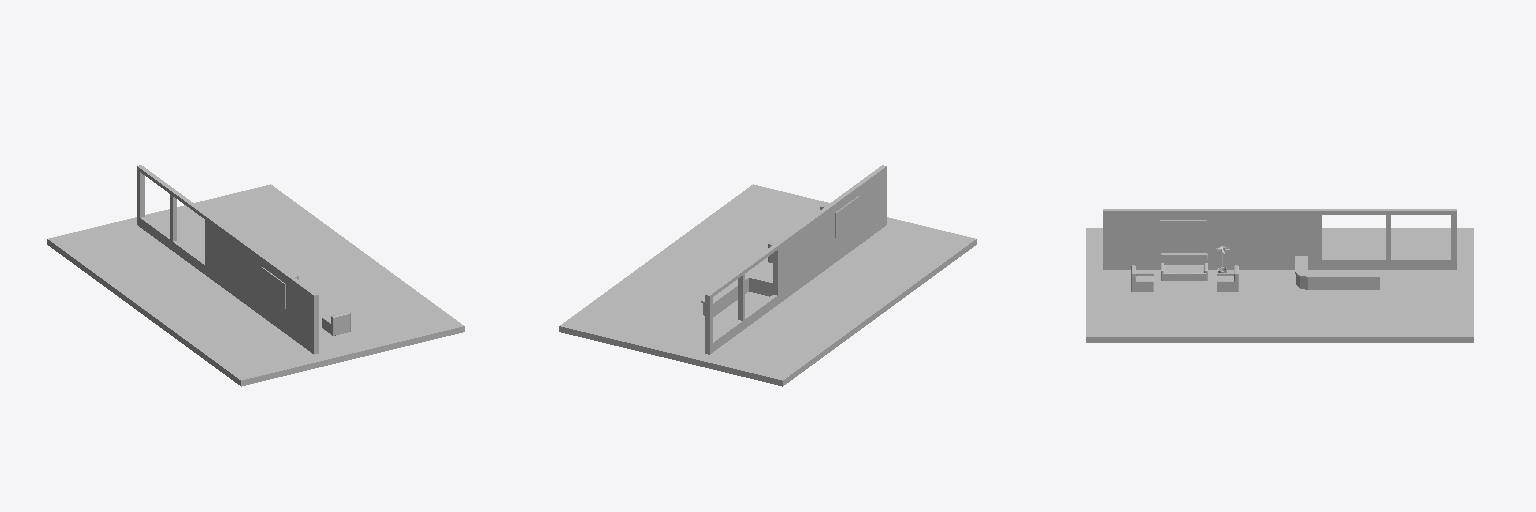
File: office.obj
The picture shows the model from 3 angles: view 1: azimuth 30°, elevation 25°; view 2: azimuth 150°, elevation 25°; view 3: azimuth 270°, elevation 25°; orthographic projection.
Parts seen in each view (by area): view 1: Cube.001_Cube.010, Far_Wall_Cube.002, Cube.002_Cube.011; view 2: Cube.001_Cube.010, Far_Wall_Cube.002, Desk_Cube.005, Cube.002_Cube.011; view 3: Cube.001_Cube.010, Far_Wall_Cube.002, Desk_Cube.005, Couch_Cube.006, Cube.002_Cube.011.
Part boxes in pixels (x1,y1,x2,y2): Cube.001_Cube.010: (47, 184, 464, 386); Far_Wall_Cube.002: (137, 165, 318, 354); Cube.002_Cube.011: (261, 267, 285, 308); Cube.001_Cube.010: (559, 184, 976, 386); Far_Wall_Cube.002: (705, 165, 886, 354); Desk_Cube.005: (701, 272, 772, 316); Cube.002_Cube.011: (835, 196, 858, 237); Cube.001_Cube.010: (1086, 228, 1473, 342); Far_Wall_Cube.002: (1103, 209, 1456, 269); Desk_Cube.005: (1295, 256, 1379, 289); Couch_Cube.006: (1161, 253, 1207, 280); Cube.002_Cube.011: (1160, 220, 1206, 245).
Bounding box in the file's own units: 10.97 × 3.04 × 16.47.